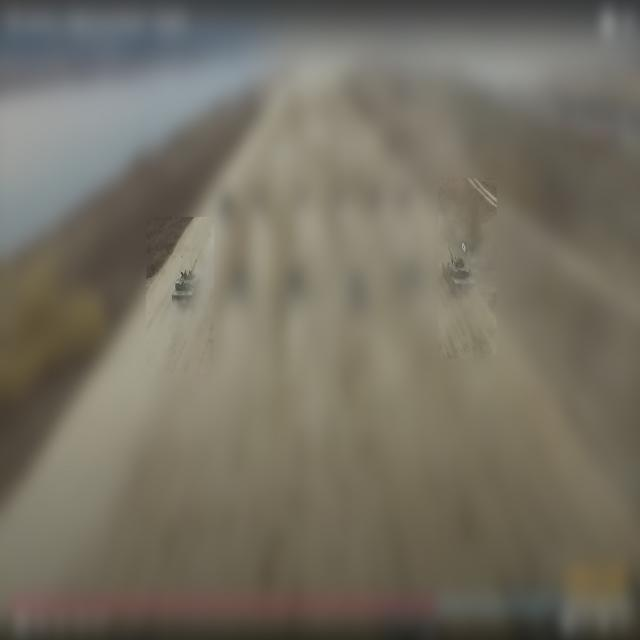tank: (437, 241, 479, 301), (168, 256, 202, 314)
